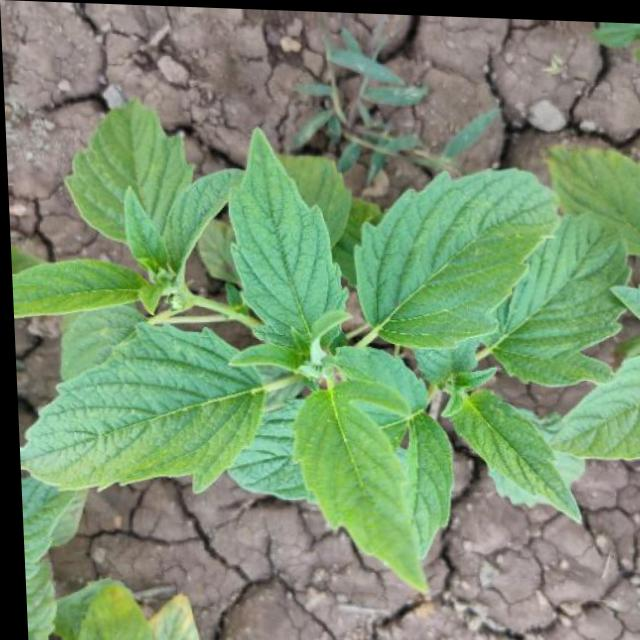crop: (18, 88, 630, 601)
